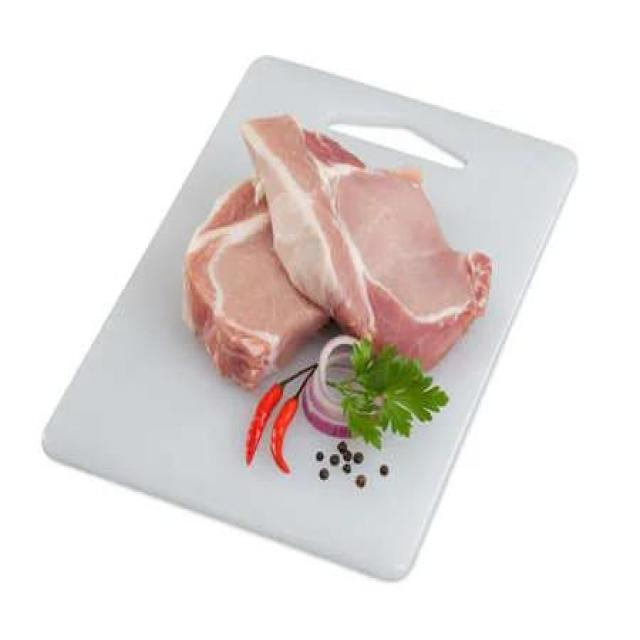pork: (242, 104, 500, 330)
